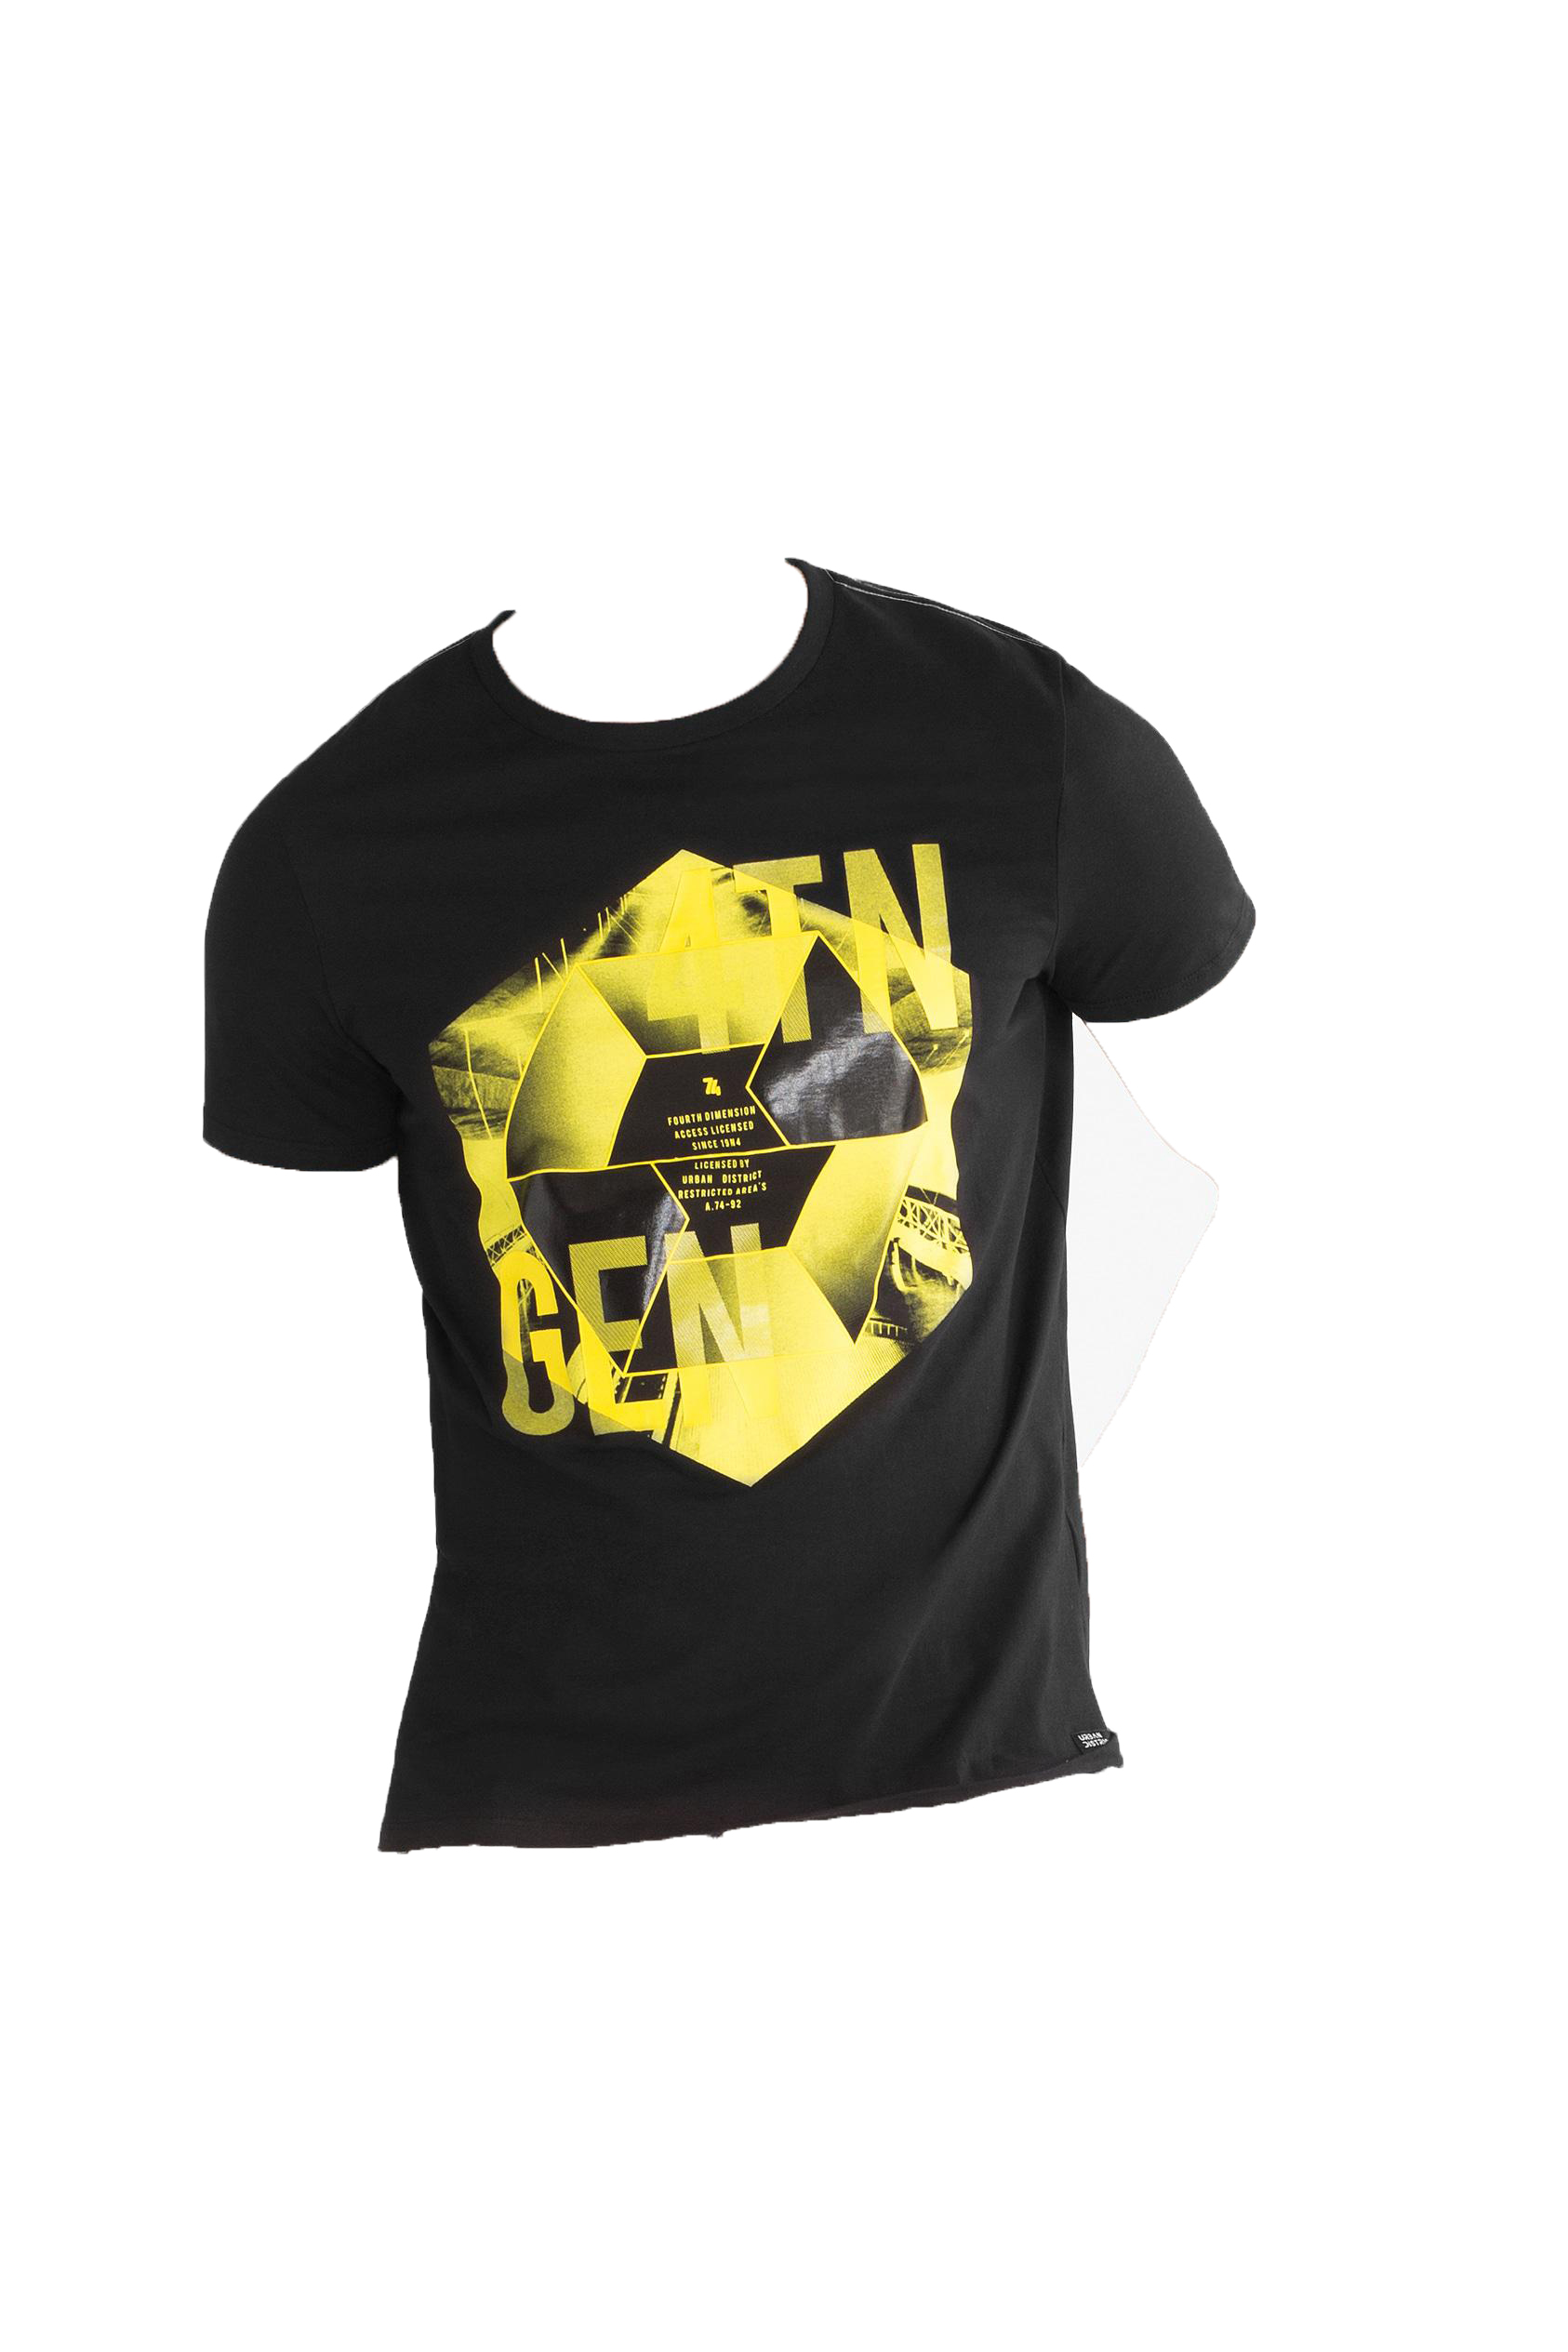teeshirt: (196, 556, 1272, 1844)
